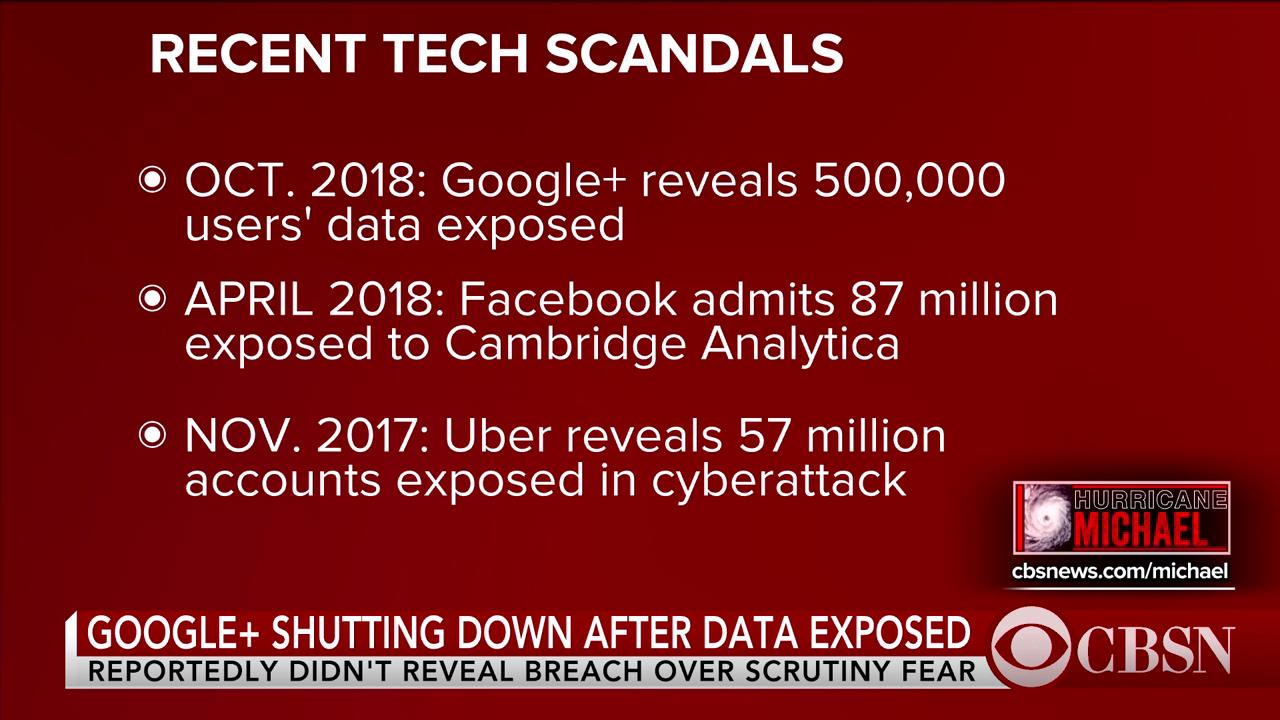APRIL 2018: Facebook admits 87 million: (181, 278, 1060, 322)
CBSN: (1076, 624, 1238, 676)
GOOGLE+ SHUTTING DOWN AFTER DATA EXPOSED: (84, 612, 975, 652)
HURRICANE: (1071, 486, 1227, 508)
MICHAEL: (1071, 510, 1209, 549)
NOV. 2017: Uber reveals 57 million: (181, 413, 948, 456)
OCT. 2018: GOOGLE+ reveals 500,000: (181, 157, 1010, 201)
RECENT TECH SCANDALS: (146, 28, 847, 77)
REPORTEDLY DIDN'T REVEAL BREACH OVER SCRUTINY FEAR: (85, 656, 981, 685)
accounts exposed in cyberattack: (182, 460, 912, 507)
cbsnews.com/michael: (1012, 563, 1232, 583)
exposed to Cambridge Analytica: (181, 329, 905, 373)
users's data exposed: (185, 204, 628, 251)
